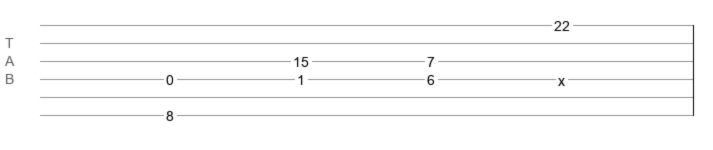0: (166, 72, 174, 82)
1: (297, 72, 305, 82)
15: (293, 54, 309, 64)
22: (554, 18, 570, 28)
6: (427, 72, 435, 82)
7: (427, 54, 435, 64)
8: (166, 108, 174, 118)
x: (558, 73, 565, 81)
